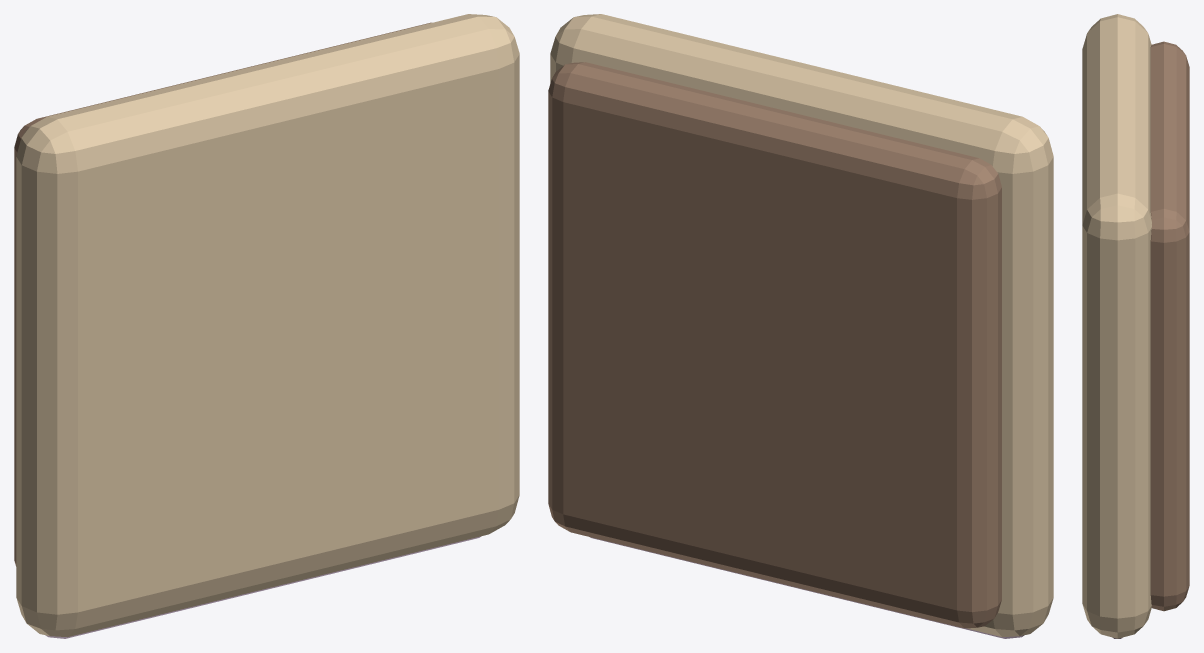
The model's file is plot_farm_wet.fbx.
The picture shows the model from 3 angles, left to right: view 1: azimuth 30°, elevation 25°; view 2: azimuth 150°, elevation 25°; view 3: azimuth 270°, elevation 25°; orthographic projection. The views are drawn at different scales.
Parts seen in each view (by area): view 1: plot_farm_wet_base, plot_farm_wet_solo; view 2: plot_farm_wet_solo, plot_farm_wet_base; view 3: plot_farm_wet_base, plot_farm_wet_solo.
Boxes of the visible parts, x1=… form: plot_farm_wet_base: x1=16, y1=14, x2=519, y2=638; plot_farm_wet_solo: x1=14, y1=22, x2=431, y2=566; plot_farm_wet_solo: x1=548, y1=62, x2=1001, y2=628; plot_farm_wet_base: x1=550, y1=14, x2=1053, y2=638; plot_farm_wet_base: x1=1082, y1=14, x2=1151, y2=638; plot_farm_wet_solo: x1=1150, y1=41, x2=1189, y2=611.
Size of the model in its own units: 190 by 191 by 41.75.
